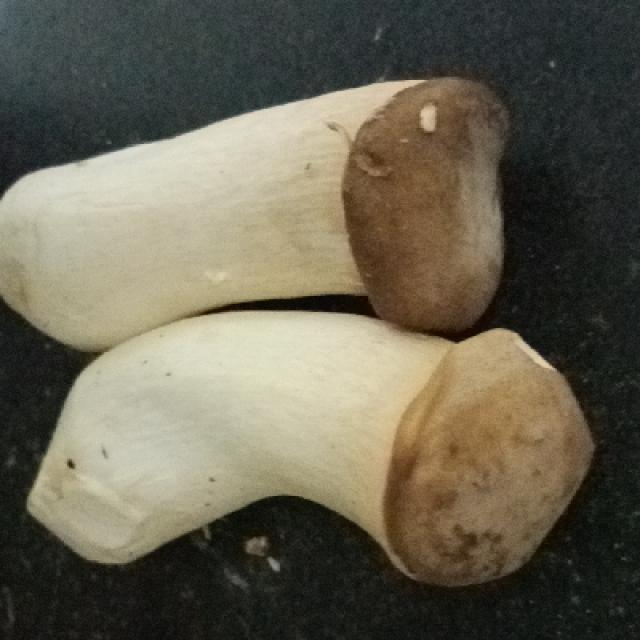Pleurotus eryngii: (30, 310, 597, 589), (0, 78, 511, 350)
